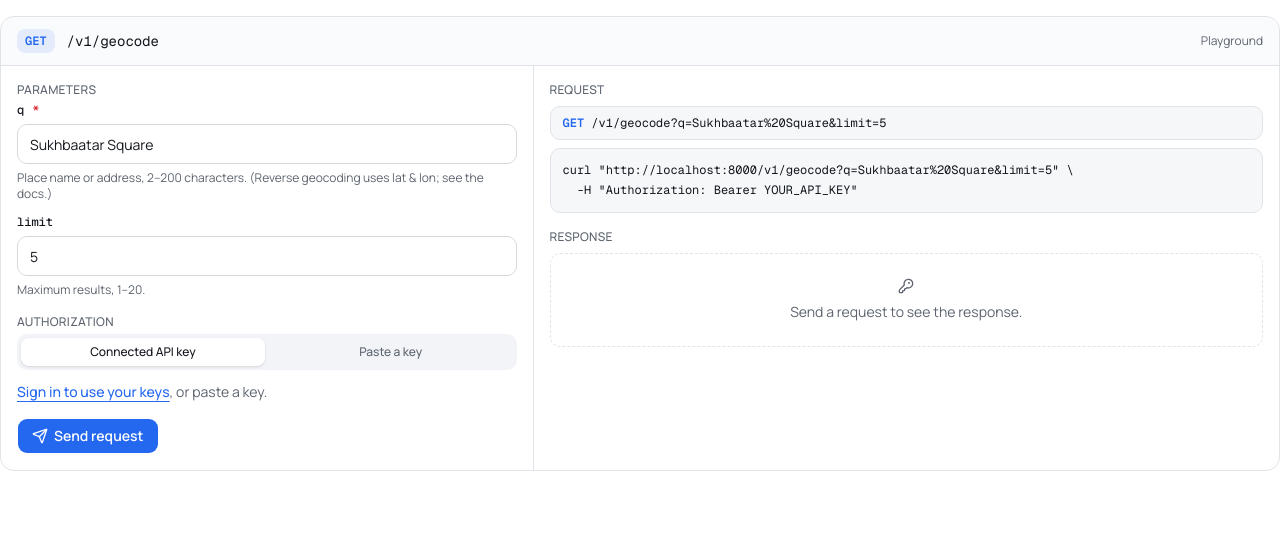
Test: Playground › validates parameters before sending
Click the radio button labelled "Paste a key": (391, 352) left=359, top=343, right=422, bottom=360
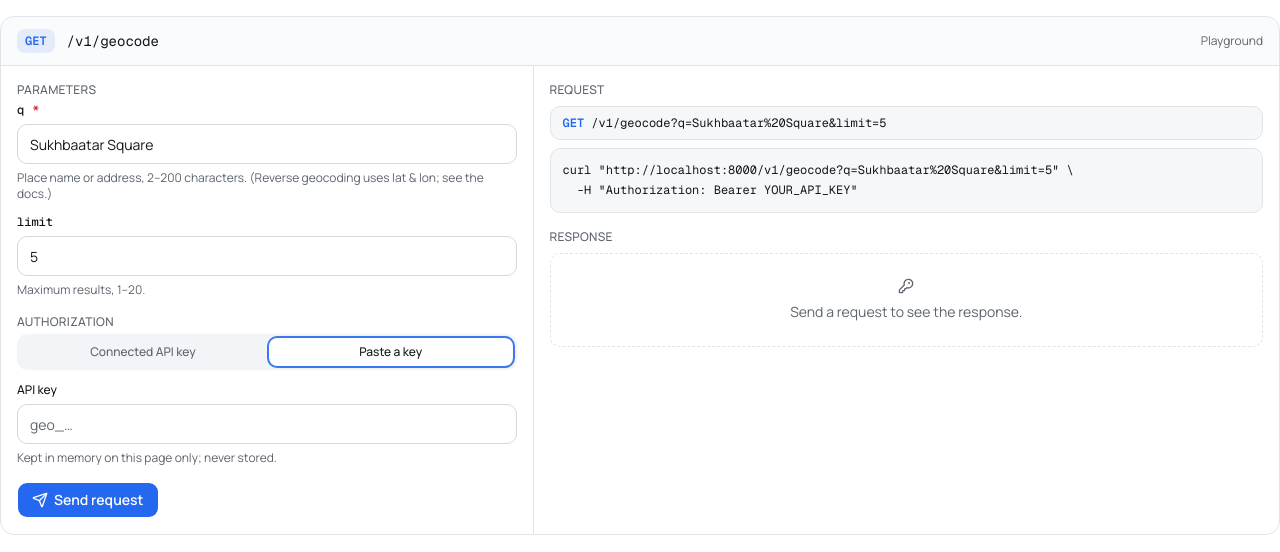
In the password field labelled "API key": (267, 424) left=17, top=404, right=516, bottom=444, type "geo_abcdefghijklmnopqrstuvwxyz123456"
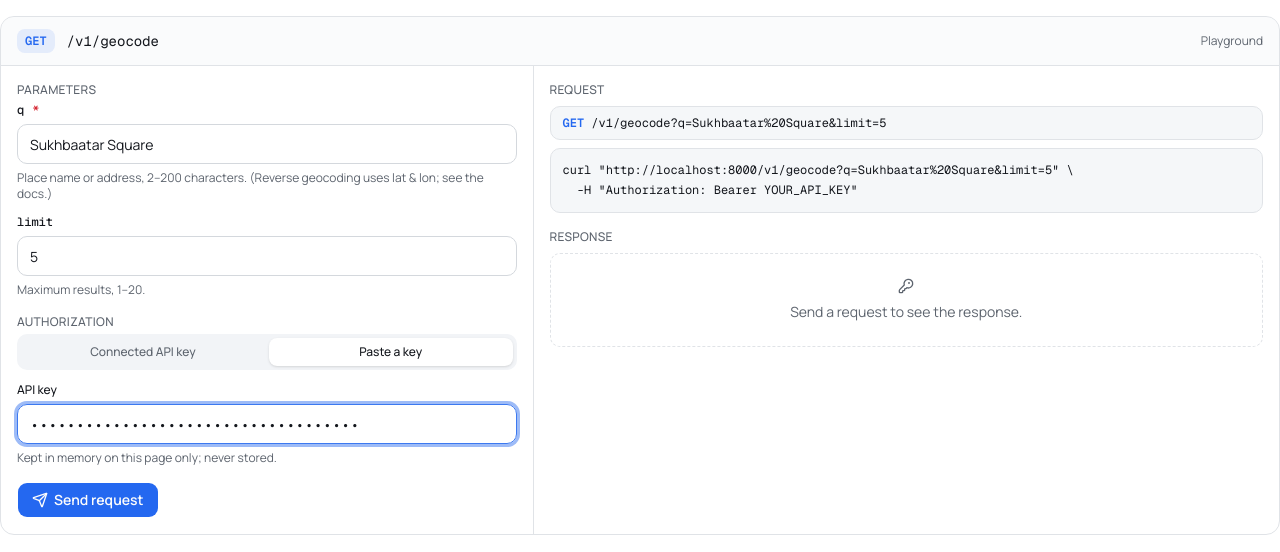
Replace the text in the field labelled "q *" with "a": (267, 144) left=17, top=124, right=516, bottom=164
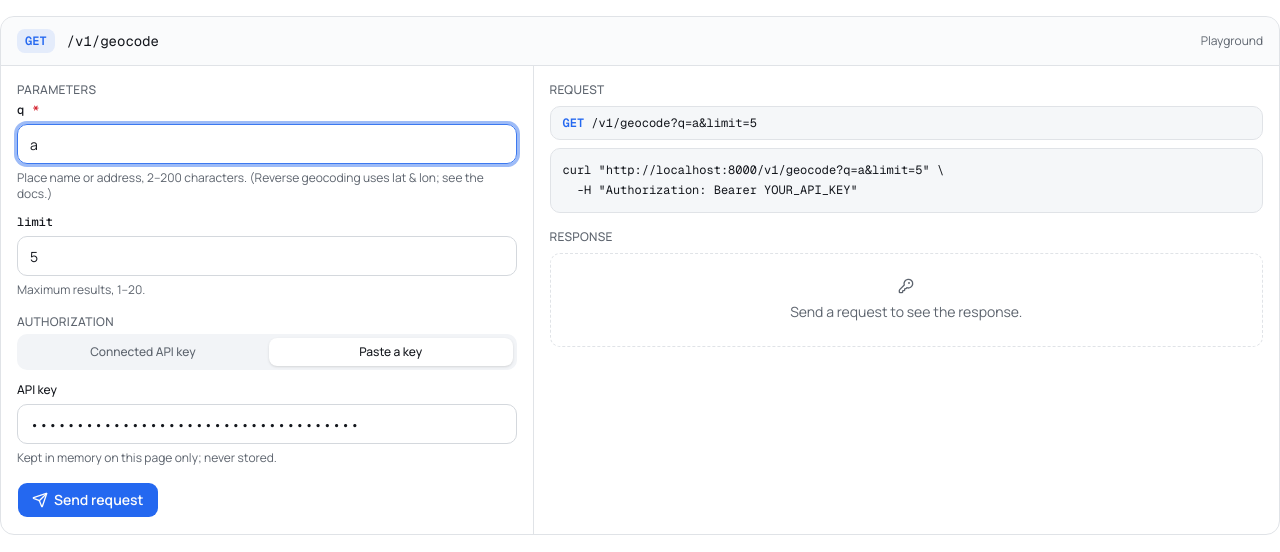
Click the button "Send request": (88, 500) left=17, top=482, right=158, bottom=518
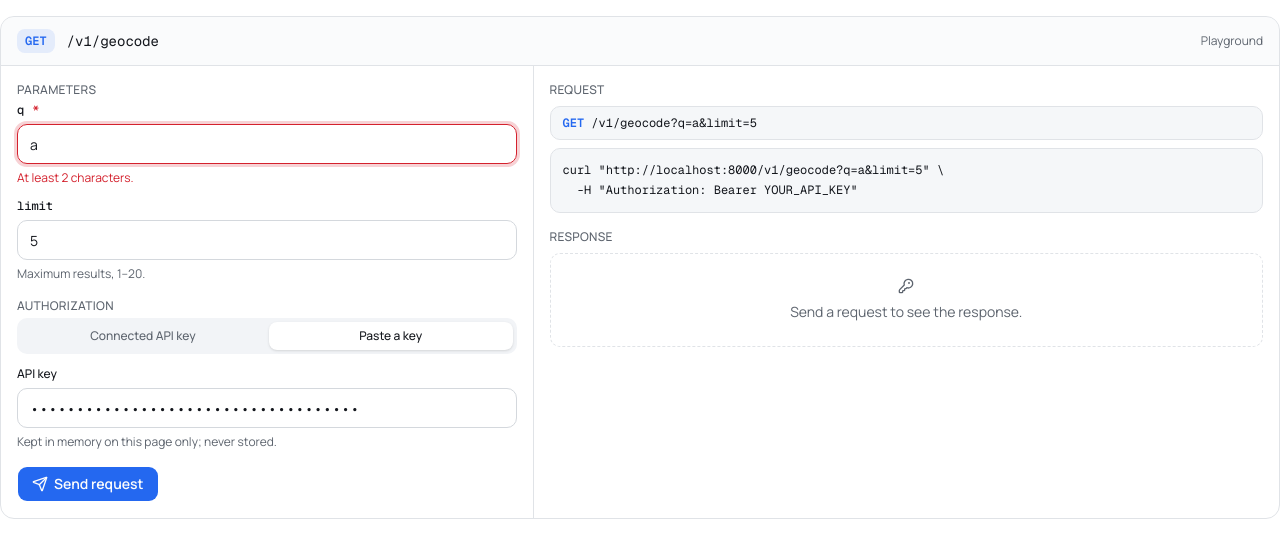
expect the text "At least 2 characters." is shown: met, box left=17, top=169, right=134, bottom=186
